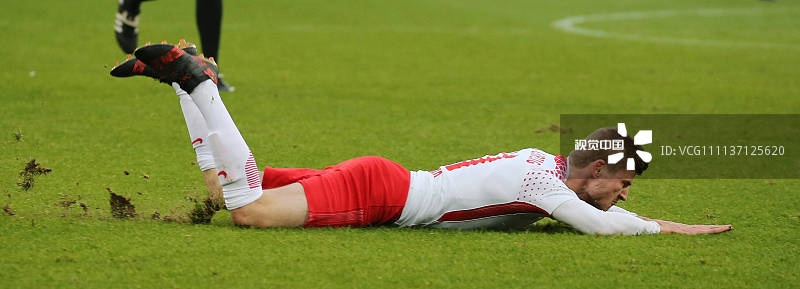falling: (93, 29, 720, 233)
